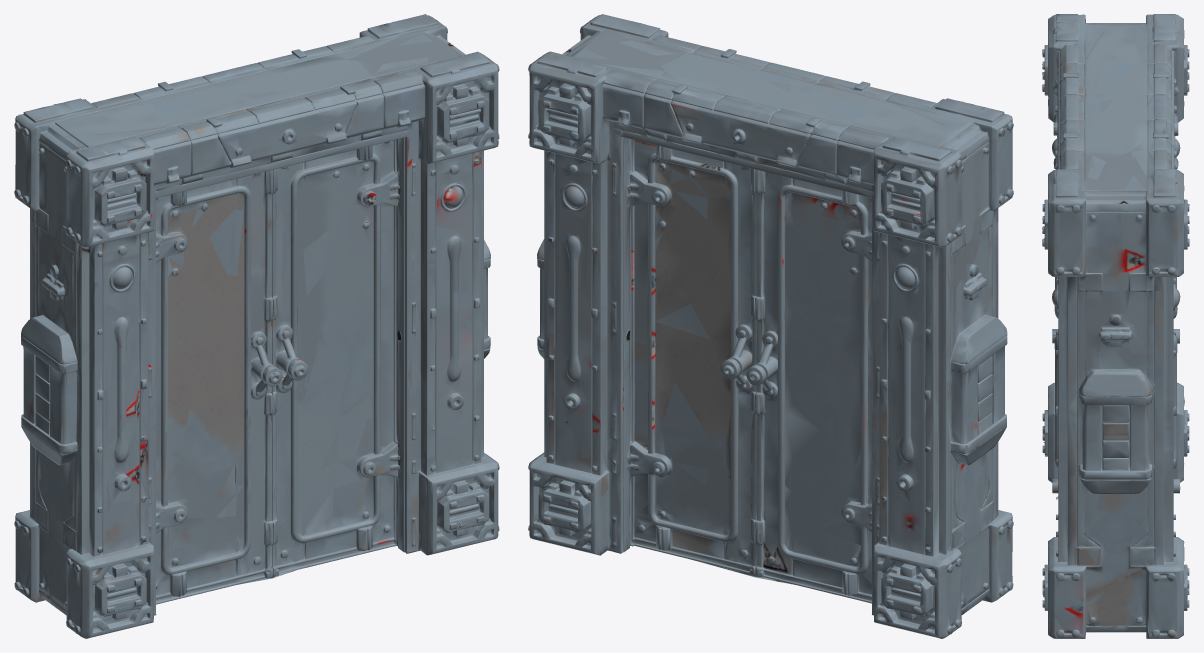
File: lab door 1v1.0.fbx
The picture shows the model from 3 angles, left to right: view 1: azimuth 30°, elevation 25°; view 2: azimuth 150°, elevation 25°; view 3: azimuth 270°, elevation 25°; orthographic projection. The views are drawn at different scales.
Parts seen in each view (by area): view 1: Plane.003, Plane, Plane.002; view 2: Plane.003, Plane, Plane.002; view 3: Plane.003.
Part boxes in pixels (x1,y1,x2,y2): Plane.003: (14, 14, 499, 638); Plane: (271, 140, 400, 577); Plane.002: (156, 169, 282, 604); Plane.003: (528, 14, 1013, 638); Plane: (628, 140, 757, 577); Plane.002: (746, 169, 872, 603); Plane.003: (1042, 14, 1189, 638).
Size of the model in its own units: 83.49 by 88.2 by 26.54.
